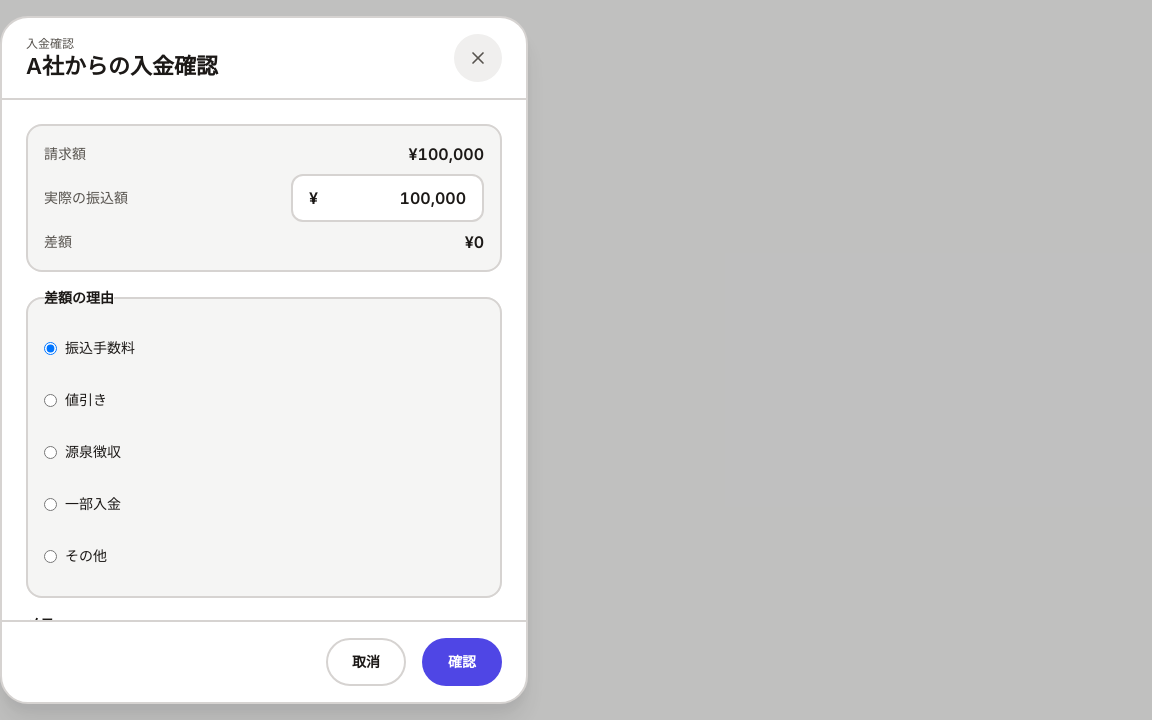
CashReceiptRecordModal › blocks confirmation when allocations exceed the received amount
Replace the text in the field labelled "実際の振込額" with "99,560" at (394, 198), box [322, 186, 466, 210]
(page scrolled)
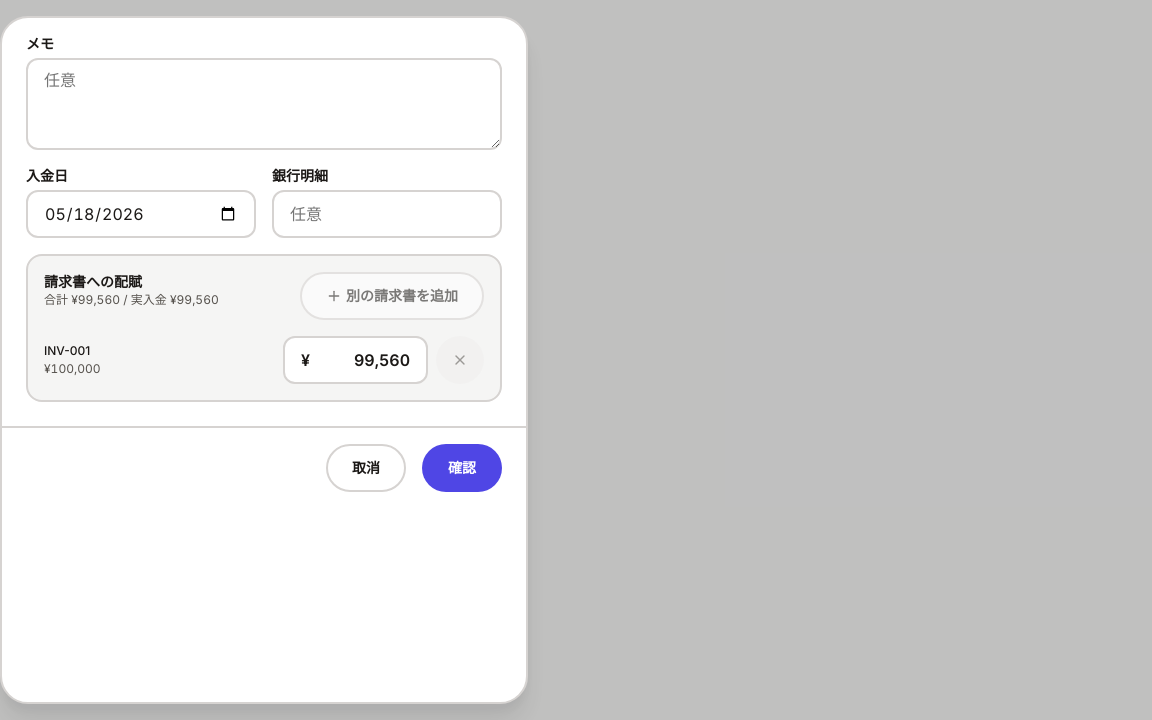
Replace the text in the field named "配賦額" with "100,001" at (362, 360), box [314, 348, 410, 372]
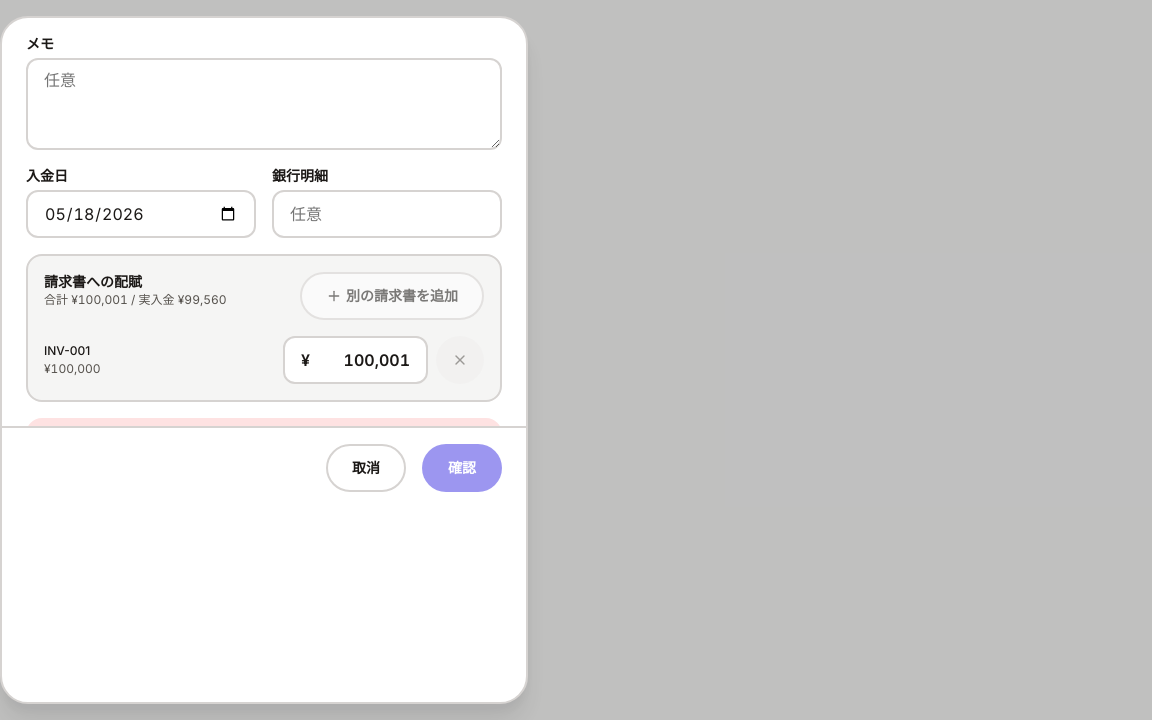
Check: the button "確認" is disabled, box [422, 444, 502, 492]
